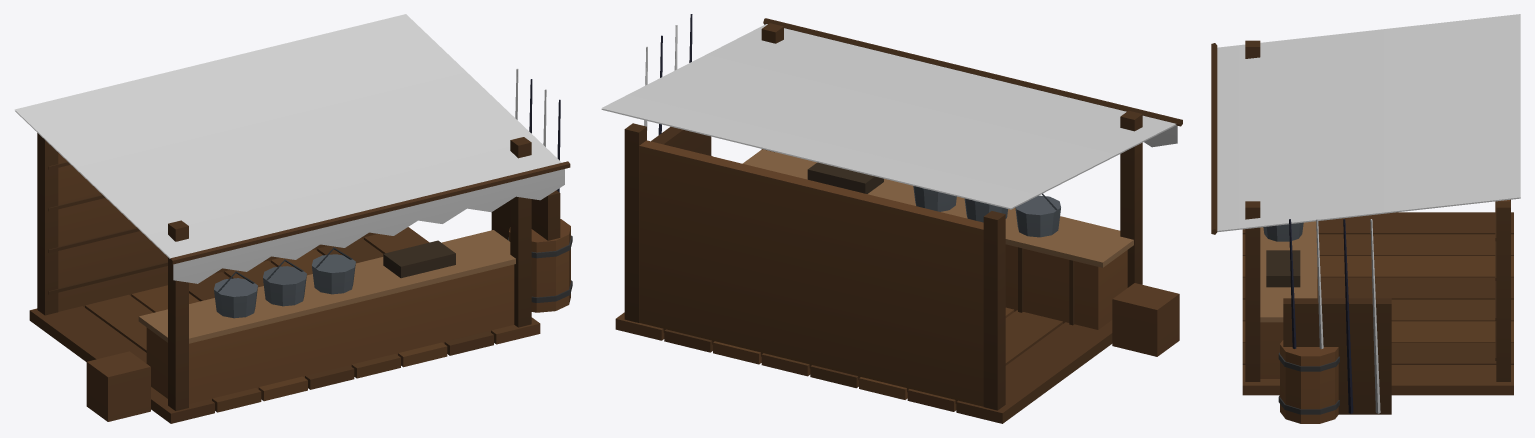
The model's file is stall.fbx.
3 views of the same model, side by side, from view 1: azimuth 30°, elevation 25°; view 2: azimuth 150°, elevation 25°; view 3: azimuth 270°, elevation 25° (orthographic). The views are drawn at different scales.
Parts seen in each view (by area): view 1: stall_0, stall_1; view 2: stall_0, stall_1; view 3: stall_0, stall_1.
Part boxes in pixels (x1,y1,x2,y2): stall_0: [14, 14, 572, 423]; stall_1: [383, 68, 560, 278]; stall_0: [601, 18, 1182, 423]; stall_1: [644, 14, 883, 193]; stall_0: [1211, 14, 1520, 423]; stall_1: [1266, 219, 1391, 414].
Bounding box in the file's own units: 7.8 × 3.3 × 4.56.
